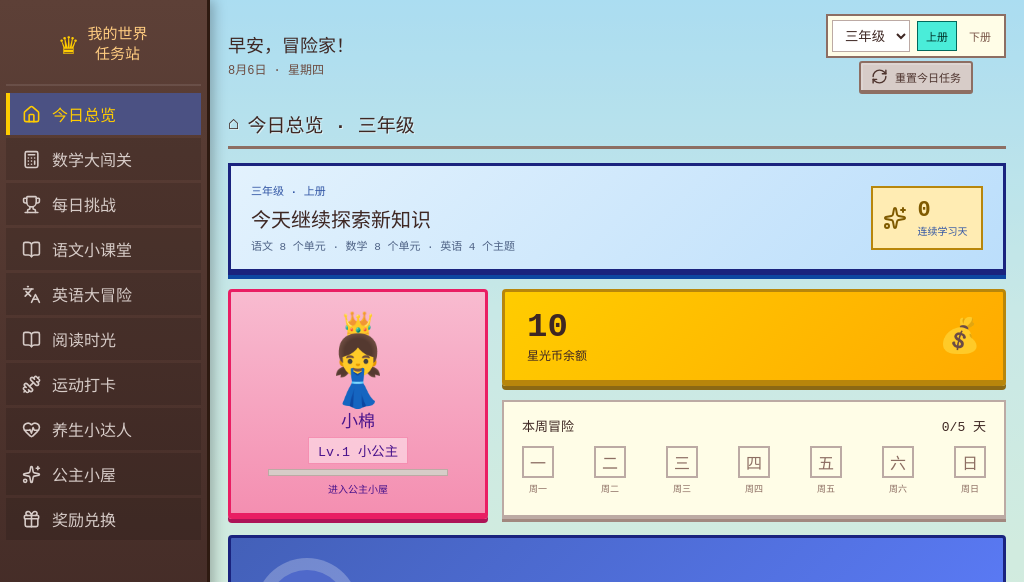
Scenario: English course reader › shows the four content categories and keeps game entry available
The image size is (1024, 582).
Click the button "英语大冒险". click: (104, 294)
box: [6,273,201,315]
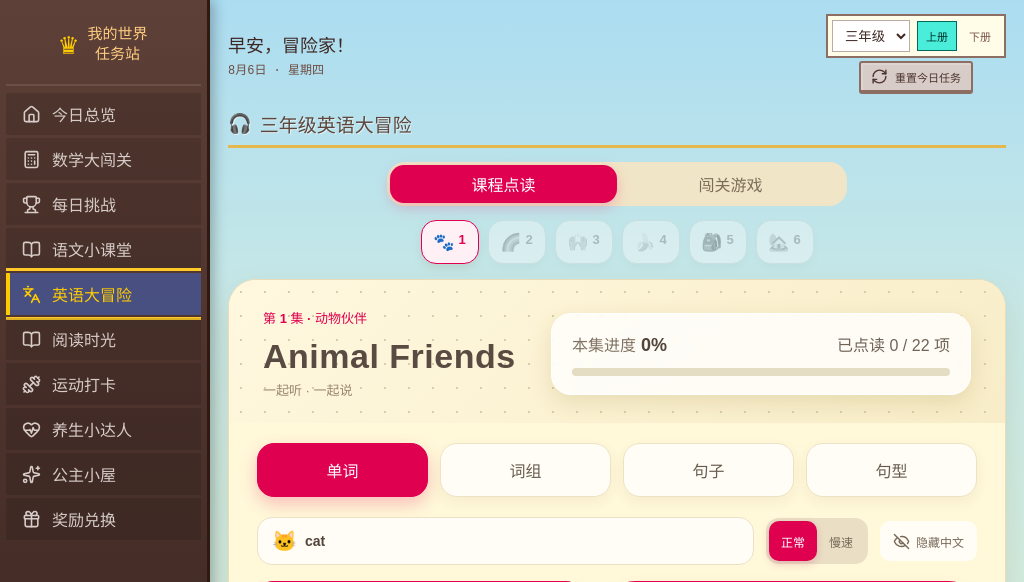
Check: the heading "Animal Friends" is shown, box [263,337,523,376]
Click the tab "词组". click: (526, 470)
box: [440,443,611,497]
(page scrolled)
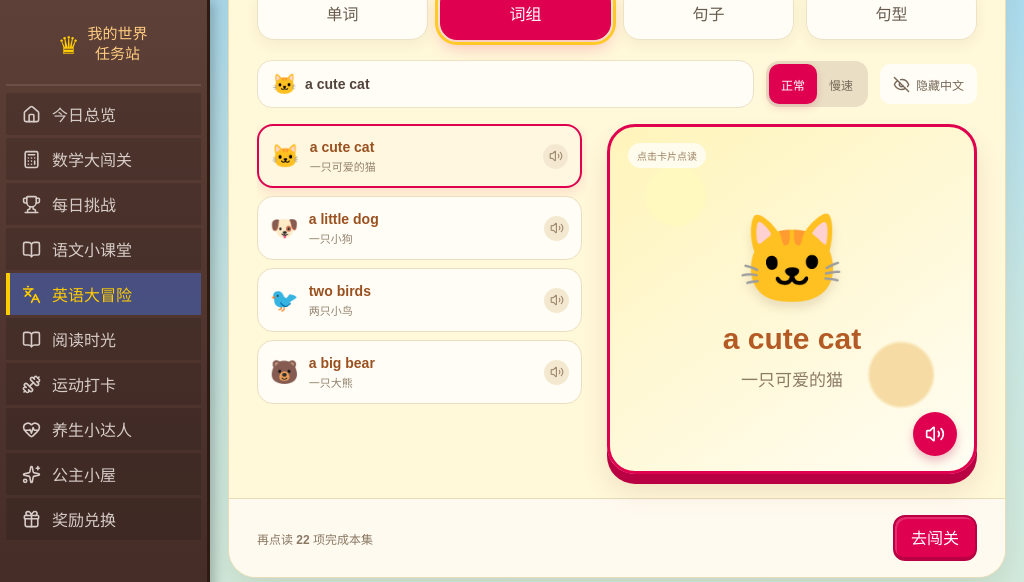
Check: the button with aria-label "点读 a cute cat" is shown, box [257,124,582,188]
Click the button "去闯关". click: (935, 538)
box: [893,515,977,561]
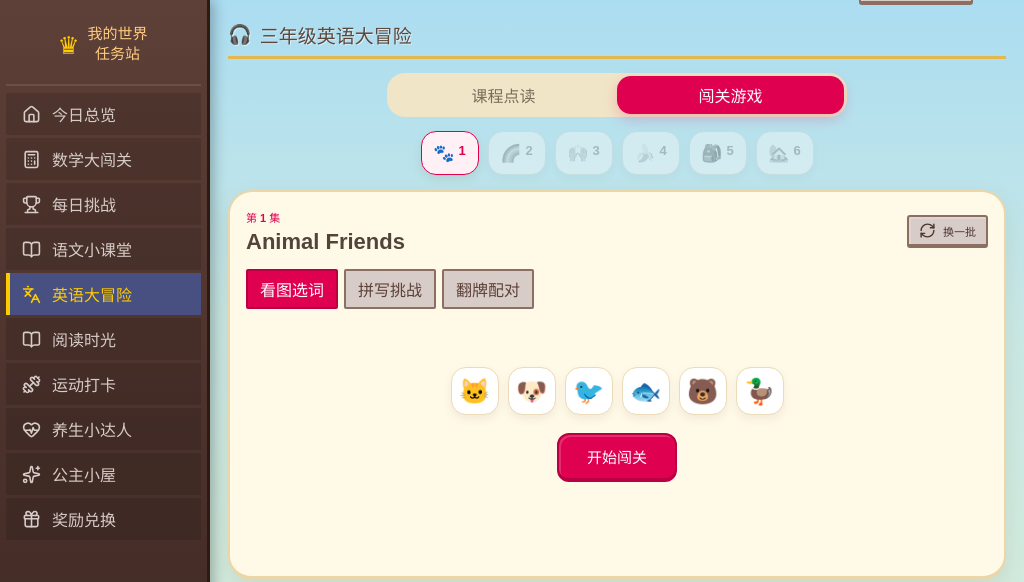
Check: the button "开始闯关" is shown, box [557,433,677,482]
Check: the button "换一批" is shown, box [907,215,988,248]
